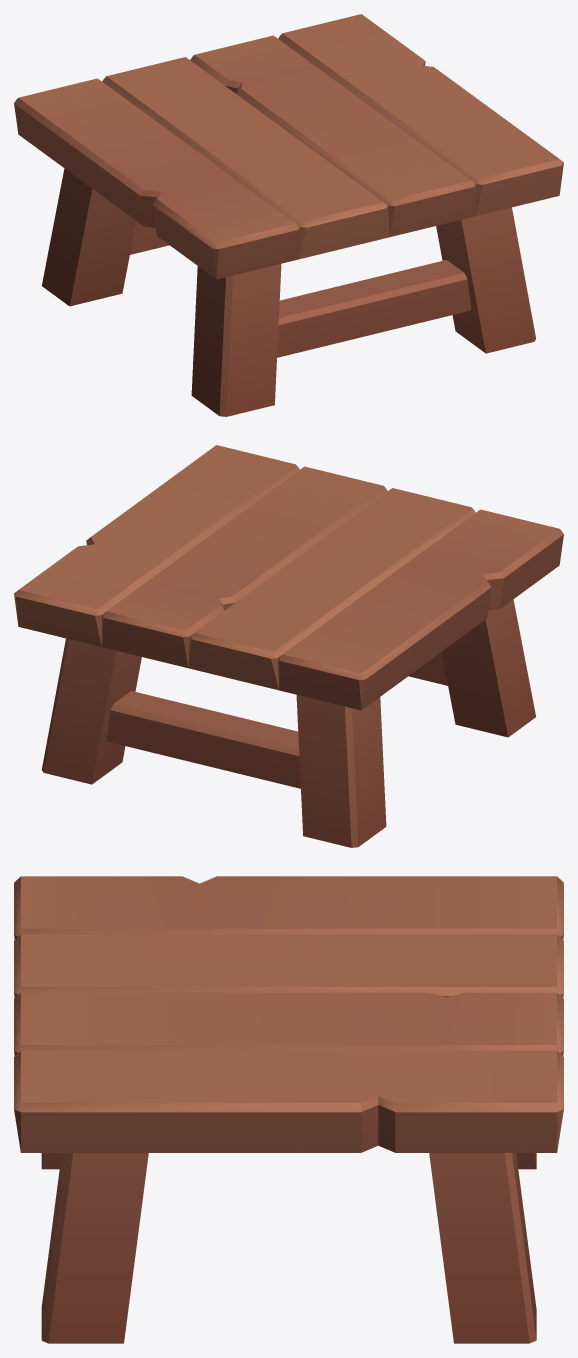
The model's file is table_medium.gltf.
3 renders of one model, top to bottom at view 1: azimuth 30°, elevation 25°; view 2: azimuth 150°, elevation 25°; view 3: azimuth 270°, elevation 25°, orthographic. The views are drawn at different scales.
Visible parts, largest first — view 1: table_medium; view 2: table_medium; view 3: table_medium.
Part boxes in pixels (x1=…): table_medium: x1=14, y1=14, x2=563, y2=416; table_medium: x1=14, y1=445, x2=563, y2=847; table_medium: x1=14, y1=876, x2=563, y2=1343.
Bounding box in the file's own units: 2 × 1 × 2.
Materials: 1 (1 with a texture image).
